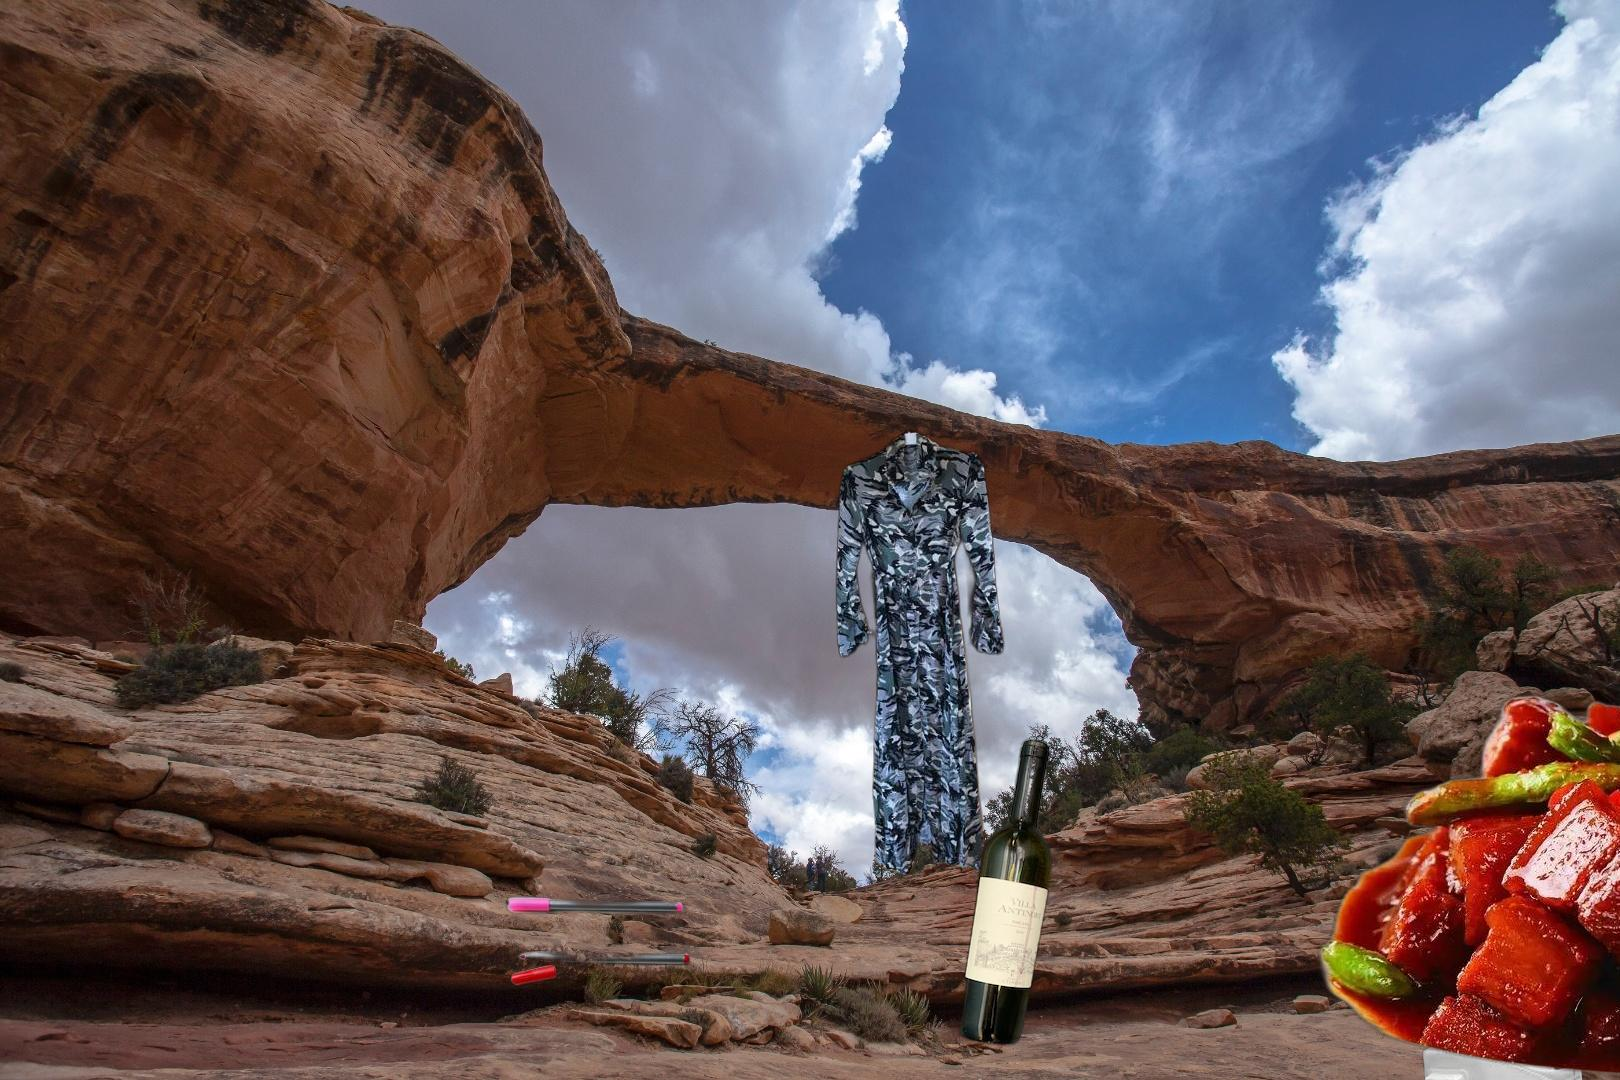biological: (1309, 622, 1620, 1080)
clothes: (832, 409, 1006, 880)
glass: (953, 734, 1056, 1051)
penholder: (501, 847, 693, 988)
trash: (1419, 997, 1620, 1080)
